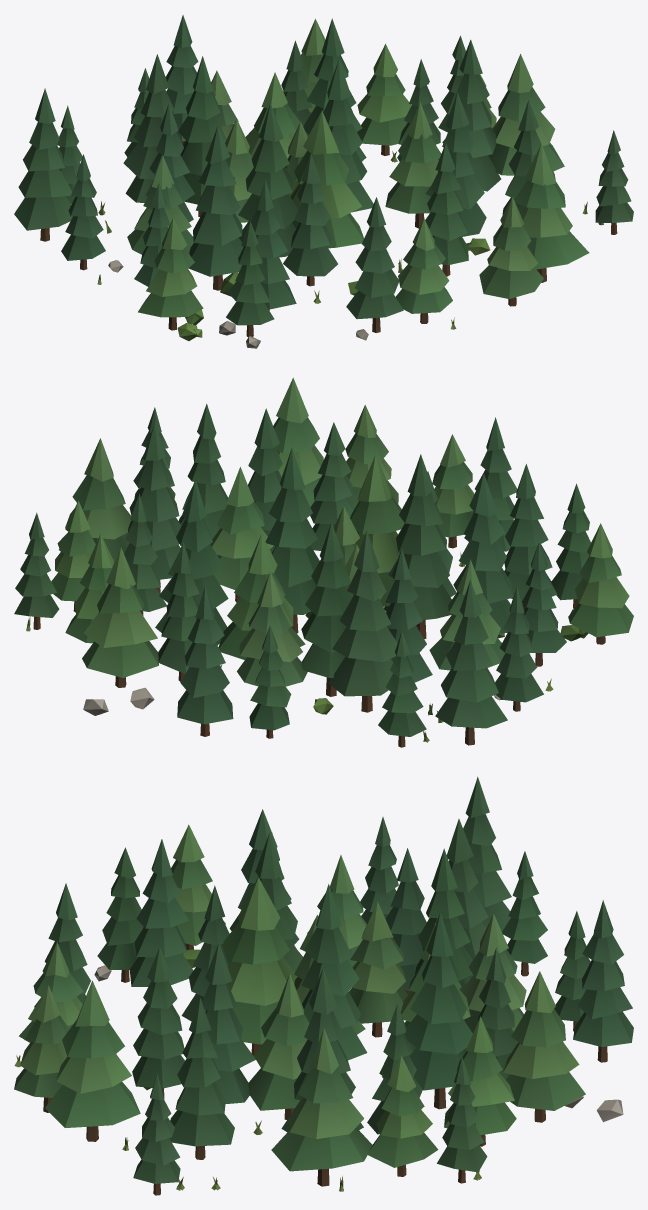
The model's file is forest_conifer_b.glb.
3 renders of one model, top to bottom at view 1: azimuth 30°, elevation 25°; view 2: azimuth 150°, elevation 25°; view 3: azimuth 270°, elevation 25°, orthographic. The views are drawn at different scales.
Parts seen in each view (by area): view 1: forest_conifer_b; view 2: forest_conifer_b; view 3: forest_conifer_b.
Boxes of the visible parts, x1=… form: forest_conifer_b: x1=14, y1=15, x2=633, y2=348; forest_conifer_b: x1=14, y1=377, x2=633, y2=747; forest_conifer_b: x1=14, y1=776, x2=633, y2=1195.
Bounding box in the file's own units: 16.72 × 5.85 × 16.22.
